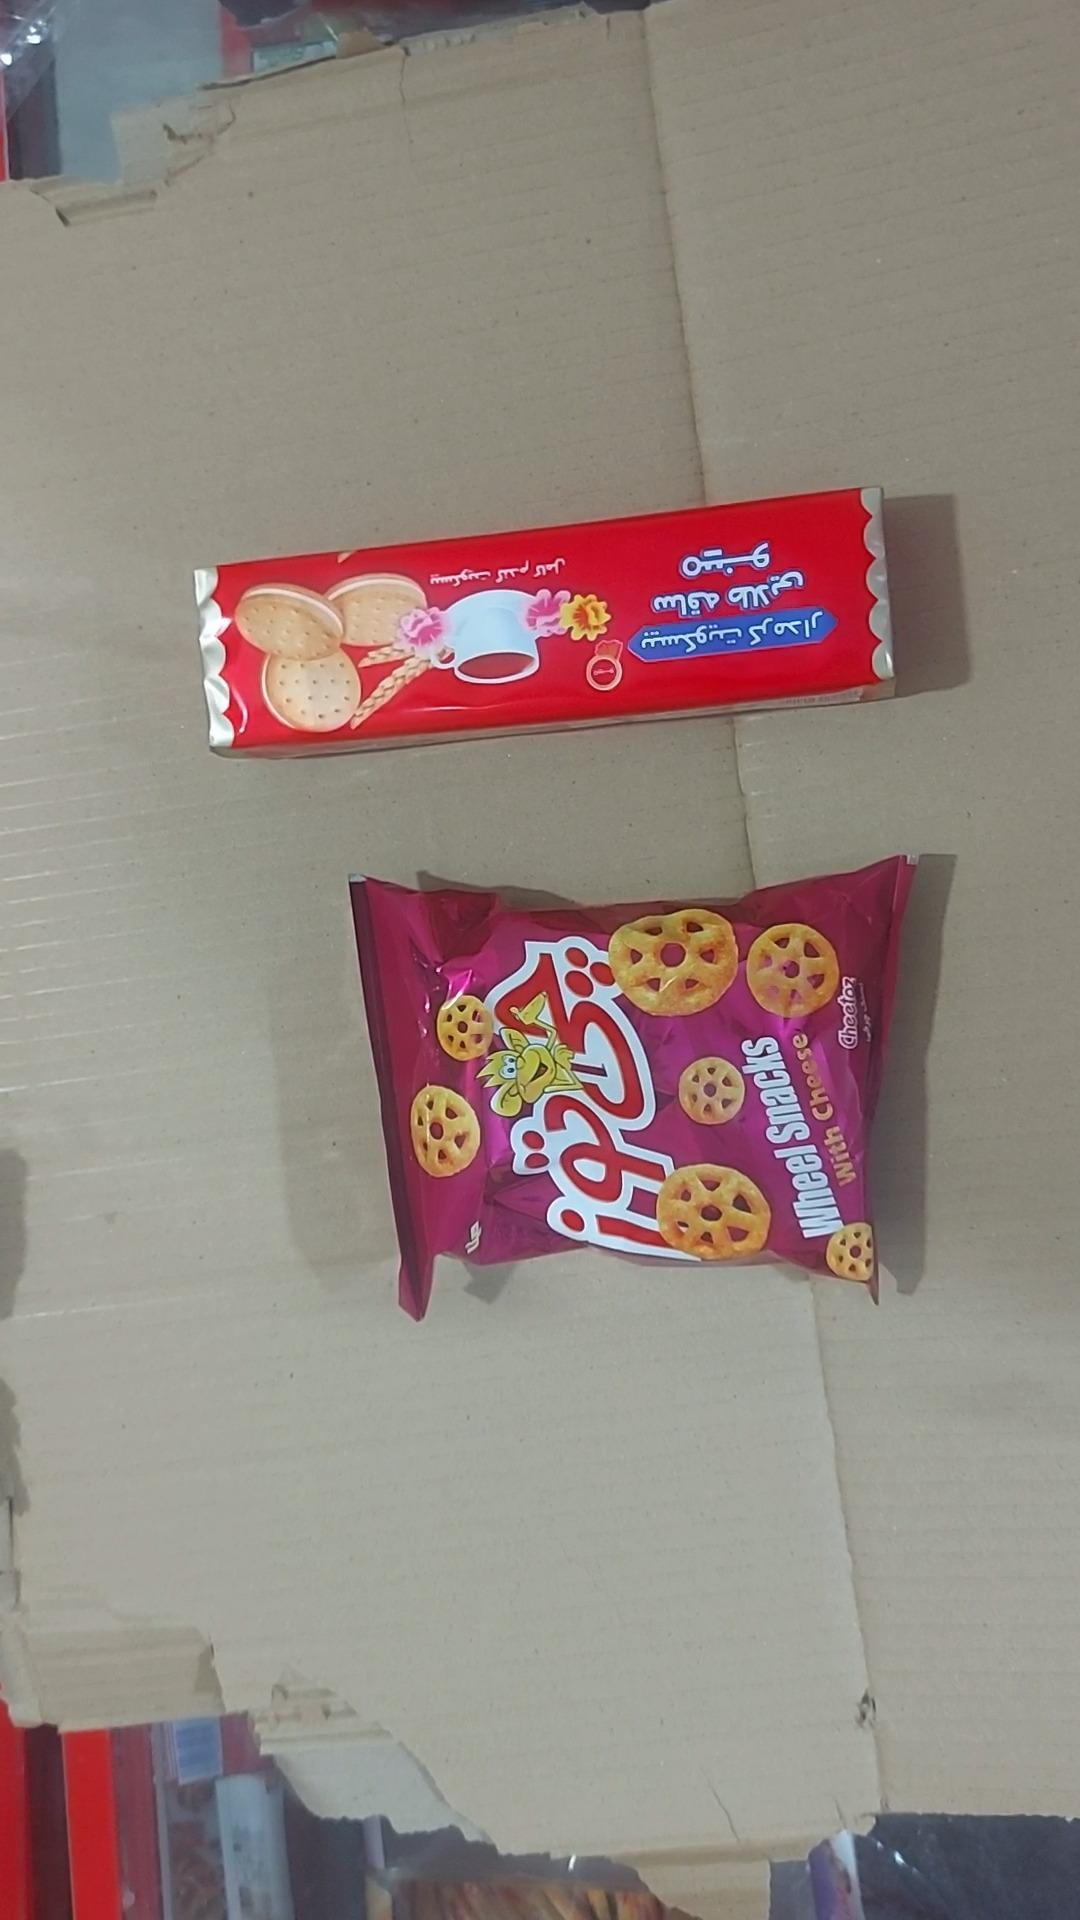Cheetoz wheelsnack: (349, 858, 914, 1321)
Minoo cream biscuit: (195, 487, 897, 760)
